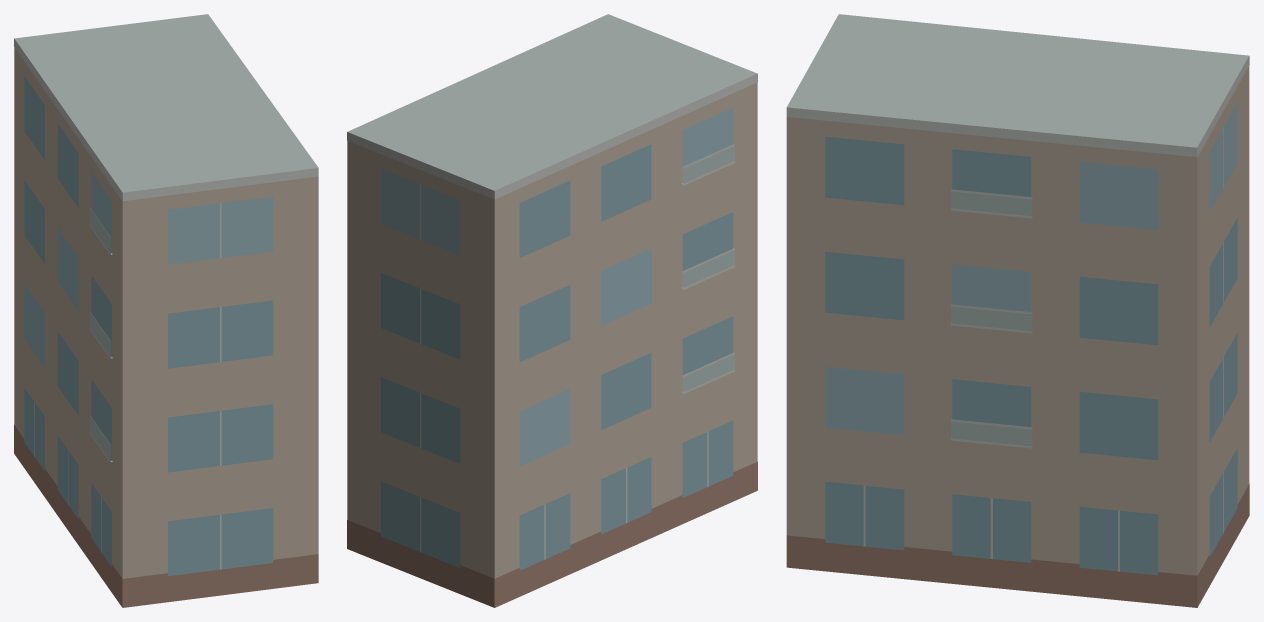
Rendered from survey-upis-32634794.glb.
The picture shows the model from 3 angles, left to right: view 1: azimuth 30°, elevation 25°; view 2: azimuth 150°, elevation 25°; view 3: azimuth 270°, elevation 25°; orthographic projection. The views are drawn at different scales.
Parts seen in each view (by area): view 1: survey-upis-32634794.tmp; view 2: survey-upis-32634794.tmp; view 3: survey-upis-32634794.tmp.
Boxes of the visible parts, bbox=[...] form: survey-upis-32634794.tmp: bbox=[14, 14, 318, 607]; survey-upis-32634794.tmp: bbox=[347, 14, 757, 607]; survey-upis-32634794.tmp: bbox=[786, 14, 1249, 607].
Size of the model in its own units: 7.36 by 11.8 by 10.77.
